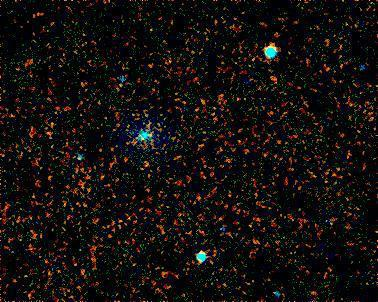star: (303, 278, 333, 302)
